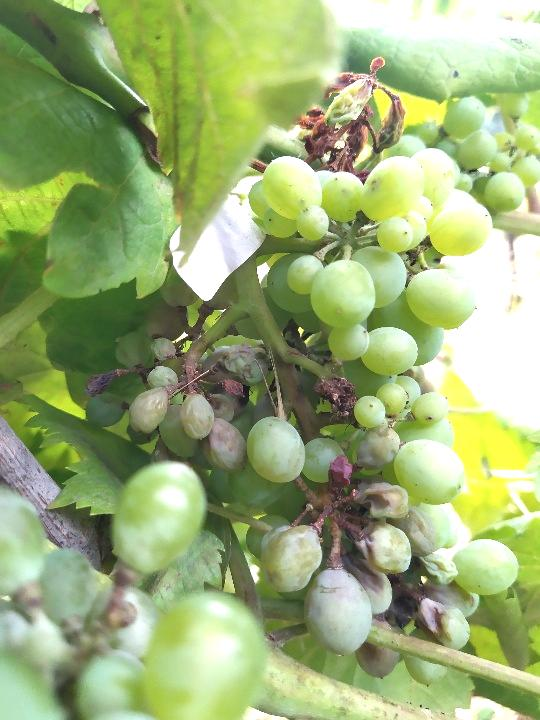grape: (124, 143, 523, 666)
